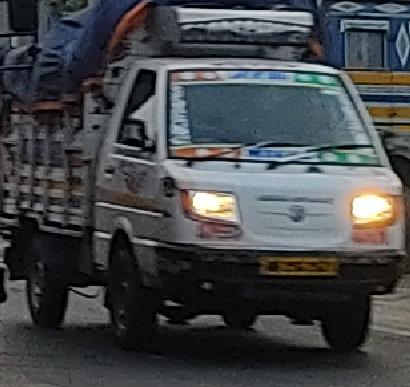Truck: (1, 6, 407, 359)
